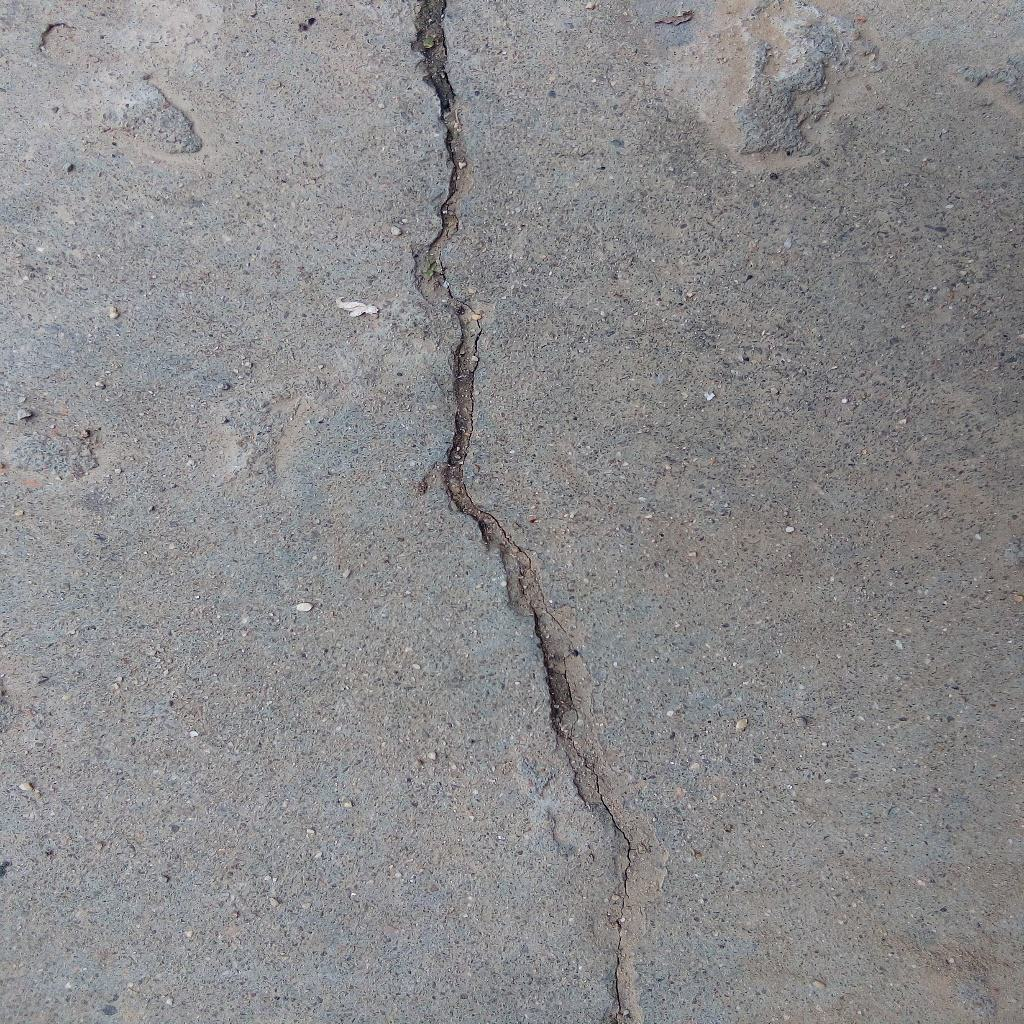Crack: (406, 1, 634, 1024)
